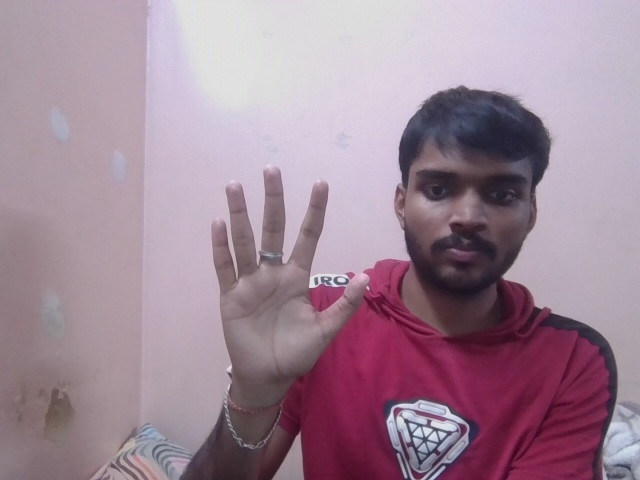Hello: (198, 165, 370, 386)
